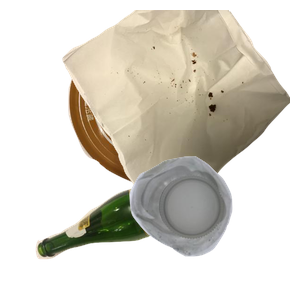glass: (33, 158, 246, 300)
metal: (66, 15, 297, 193)
plastic: (127, 154, 300, 300)
trash: (60, 10, 300, 190)
